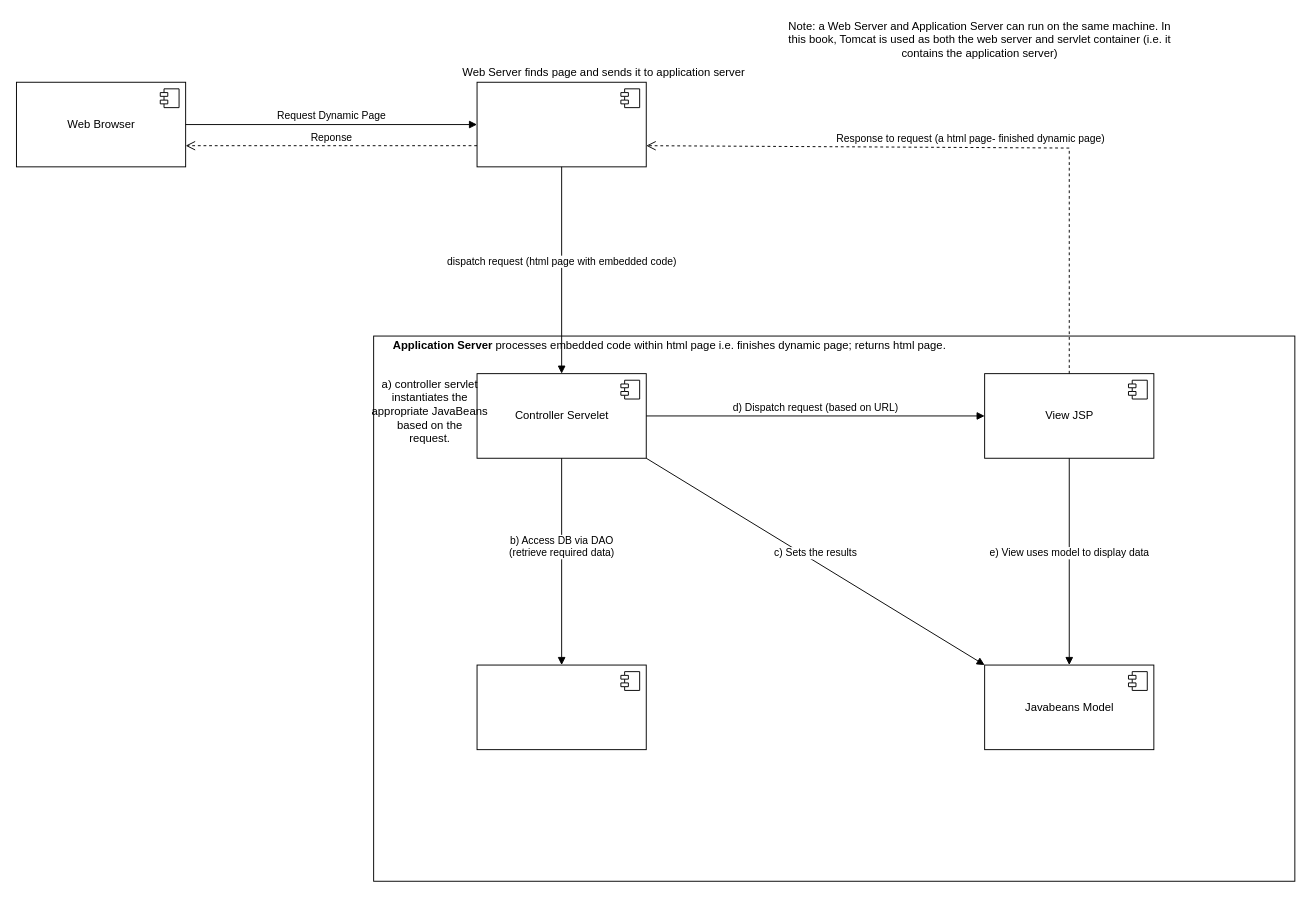
Image size: 1311x898. Some labels were removed from this diagram. The centre of each missing label's shape, as x and y in pixels:
DB: pixel 561 707
Web Server: pixel 561 124
